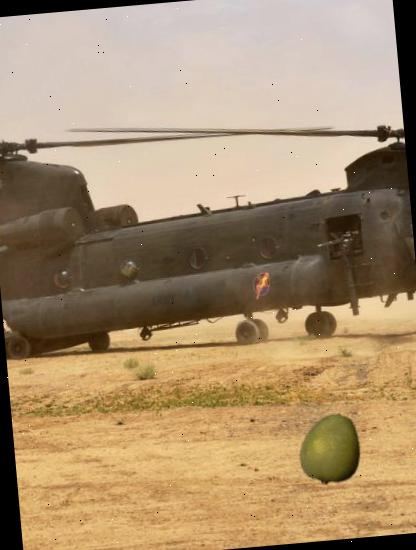Pear: (289, 404, 375, 489)
